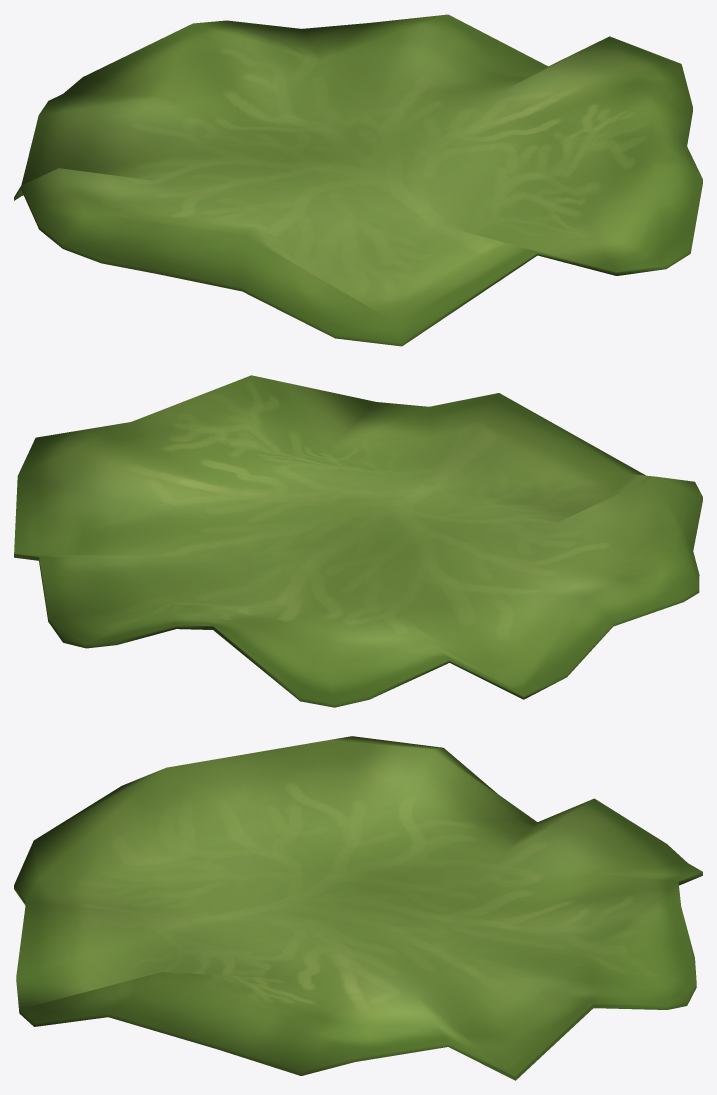
File: salad.fbx
3 renders of one model, top to bottom at view 1: azimuth 30°, elevation 25°; view 2: azimuth 150°, elevation 25°; view 3: azimuth 270°, elevation 25°, orthographic. The views are drawn at different scales.
Parts seen in each view (by area): view 1: salad; view 2: salad; view 3: salad.
Part boxes in pixels (x1,y1,x2,y2): salad: [14, 14, 702, 346]; salad: [14, 375, 702, 707]; salad: [14, 736, 702, 1080].
Size of the model in its own units: 31.76 by 3.78 by 28.38.
